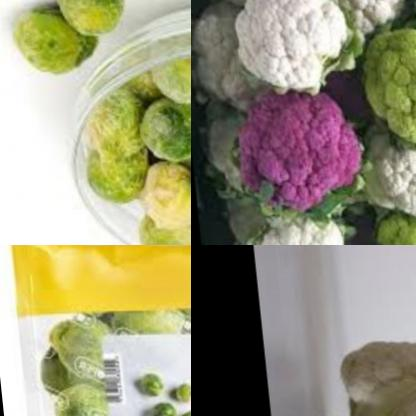brus capusta: (54, 28, 191, 245), (26, 306, 121, 416), (1, 11, 88, 83), (43, 0, 132, 51), (129, 360, 177, 397), (163, 374, 191, 407), (129, 404, 191, 416)
cayliflower: (225, 87, 371, 215), (225, 0, 360, 95), (299, 336, 416, 416), (191, 0, 269, 116), (356, 15, 416, 150), (357, 129, 416, 220), (231, 204, 359, 245), (305, 0, 416, 45), (191, 0, 313, 22), (364, 215, 416, 245)
